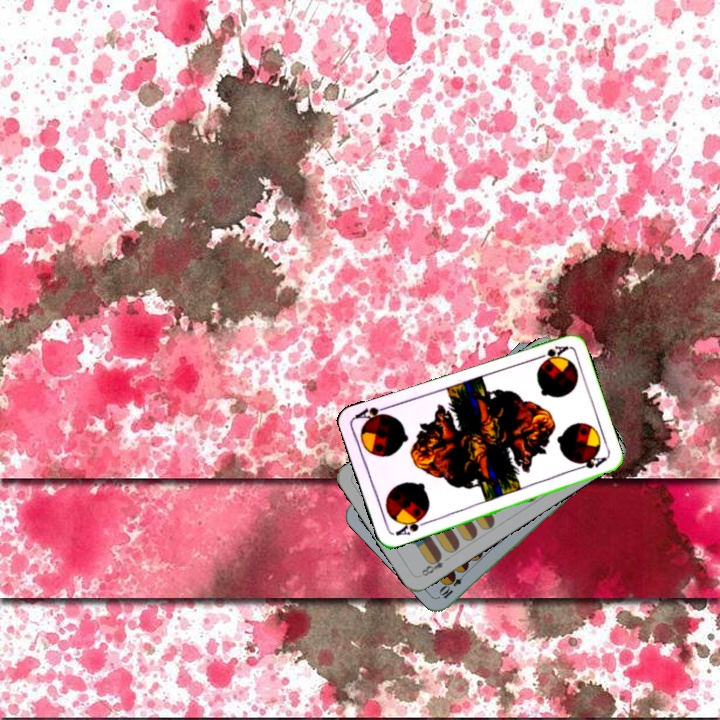E10: (436, 567, 469, 601)
E8: (416, 551, 447, 579)
SA: (391, 512, 430, 539), (531, 342, 570, 367)
